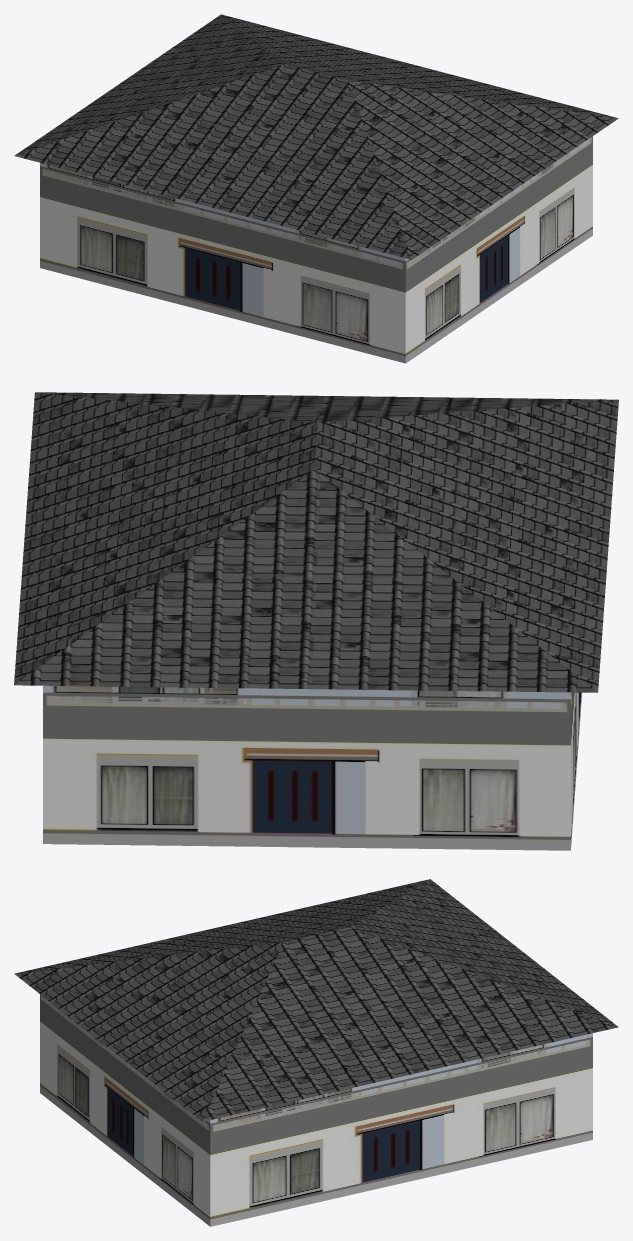
3 views of the same model, one above another, from view 1: azimuth 30°, elevation 25°; view 2: azimuth 150°, elevation 25°; view 3: azimuth 270°, elevation 25° (orthographic). The views are drawn at different scales.
Parts seen in each view (by area): view 1: CityEngineMaterial_8_m, CityEngineMaterial_7_m; view 2: CityEngineMaterial_8_m, CityEngineMaterial_7_m; view 3: CityEngineMaterial_8_m, CityEngineMaterial_7_m.
Boxes of the visible parts, bbox=[...] form: CityEngineMaterial_8_m: bbox=[14, 14, 618, 259]; CityEngineMaterial_7_m: bbox=[40, 136, 592, 363]; CityEngineMaterial_8_m: bbox=[14, 392, 618, 692]; CityEngineMaterial_7_m: bbox=[43, 685, 581, 850]; CityEngineMaterial_8_m: bbox=[14, 879, 618, 1121]; CityEngineMaterial_7_m: bbox=[40, 994, 592, 1226].
Bounding box in the file's own units: 28.28 × 9.86 × 29.78.
